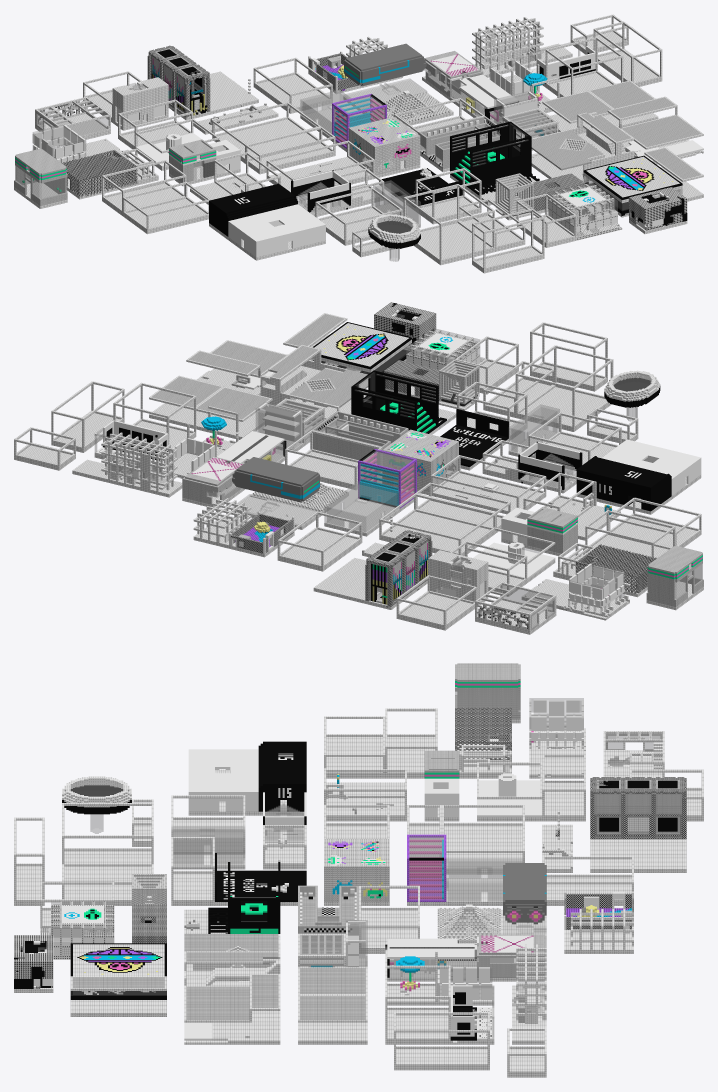
File: Area51-v1.glb
3 views of the same model, one above another, from view 1: azimuth 30°, elevation 25°; view 2: azimuth 150°, elevation 25°; view 3: azimuth 270°, elevation 25° (orthographic). The views are drawn at different scales.
Visible parts, largest first — view 1: solid-voxels_56, solid-voxels_42, solid-voxels_30, solid-voxels_49, solid-voxels_55, solid-voxels_33, solid-voxels_11, solid-voxels_50, solid-voxels_20, solid-voxels_27, solid-voxels_4, solid-voxels_57 (+72 smaller); view 2: solid-voxels_33, solid-voxels_49, solid-voxels_56, solid-voxels_55, solid-voxels_45, solid-voxels_11, solid-voxels_50, solid-voxels_51, solid-voxels_4, solid-voxels_30, solid-voxels_69, solid-voxels_57 (+67 smaller); view 3: solid-voxels_33, solid-voxels_42, solid-voxels_4, solid-voxels_50, solid-voxels_36, solid-voxels_30, solid-voxels_11, solid-voxels_45, solid-voxels_37, solid-voxels_17, solid-voxels_2, solid-voxels_49 (+69 smaller).
Part boxes in pixels (bbox=[...]): solid-voxels_56: bbox=[450, 121, 531, 192]; solid-voxels_42: bbox=[228, 204, 325, 260]; solid-voxels_30: bbox=[348, 117, 420, 178]; solid-voxels_49: bbox=[343, 43, 426, 109]; solid-voxels_55: bbox=[472, 17, 545, 77]; solid-voxels_33: bbox=[147, 45, 210, 120]; solid-voxels_11: bbox=[403, 184, 494, 265]; solid-voxels_50: bbox=[583, 155, 682, 217]; solid-voxels_20: bbox=[524, 127, 615, 182]; solid-voxels_27: bbox=[548, 184, 622, 240]; solid-voxels_4: bbox=[212, 102, 320, 163]; solid-voxels_57: bbox=[14, 148, 67, 208]; solid-voxels_33: bbox=[365, 530, 432, 609]; solid-voxels_49: bbox=[231, 457, 320, 529]; solid-voxels_56: bbox=[351, 370, 438, 434]; solid-voxels_55: bbox=[101, 432, 182, 497]; solid-voxels_45: bbox=[576, 456, 671, 514]; solid-voxels_11: bbox=[515, 345, 613, 431]; solid-voxels_50: bbox=[312, 322, 411, 375]; solid-voxels_51: bbox=[431, 455, 546, 514]; solid-voxels_4: bbox=[379, 493, 495, 555]; solid-voxels_30: bbox=[382, 429, 458, 495]; solid-voxels_69: bbox=[311, 411, 408, 464]; solid-voxels_57: bbox=[646, 546, 703, 610]; solid-voxels_33: bbox=[590, 777, 686, 839]; solid-voxels_42: bbox=[188, 749, 258, 815]; solid-voxels_4: bbox=[442, 805, 524, 874]; solid-voxels_50: bbox=[70, 943, 166, 999]; solid-voxels_36: bbox=[184, 985, 249, 1044]; solid-voxels_30: bbox=[324, 839, 389, 905]; solid-voxels_11: bbox=[62, 803, 153, 881]; solid-voxels_45: bbox=[258, 741, 306, 815]; solid-voxels_37: bbox=[298, 995, 367, 1044]; solid-voxels_17: bbox=[394, 1012, 489, 1070]; solid-voxels_2: bbox=[590, 839, 686, 872]; solid-voxels_49: bbox=[503, 863, 546, 935].
Size of the model in its own units: 201 by 13 by 158.
2 materials, 1 textured.
